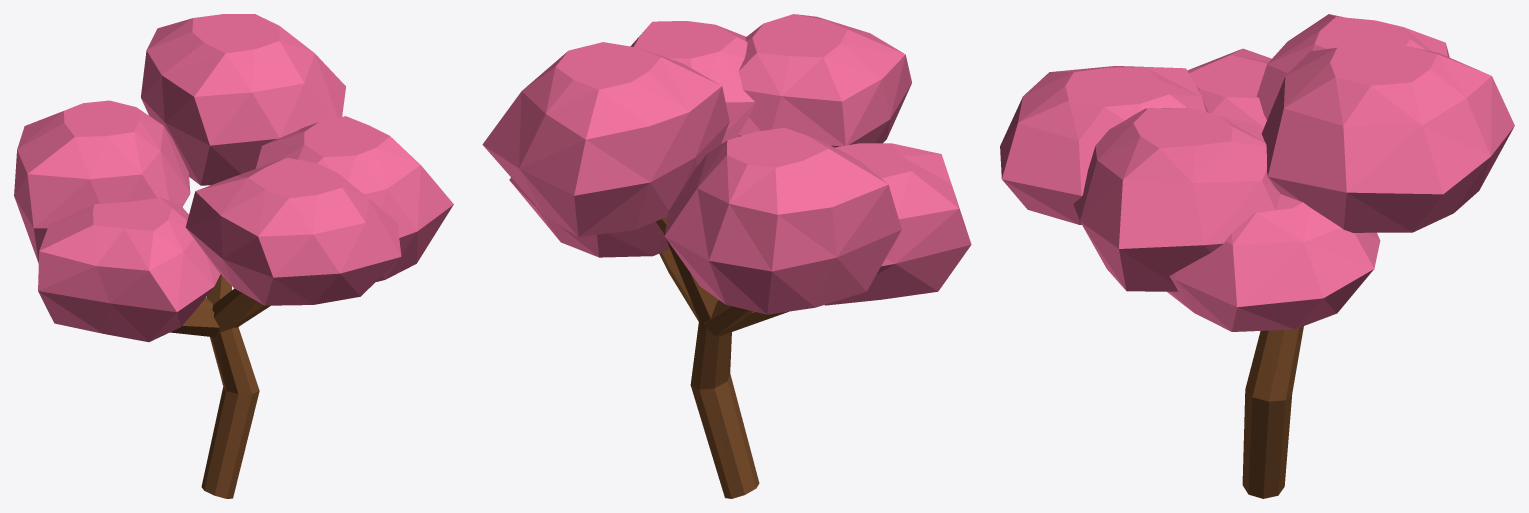
Rendered from cherry_blossom_tree.fbx.
3 renders of one model, left to right at view 1: azimuth 30°, elevation 25°; view 2: azimuth 150°, elevation 25°; view 3: azimuth 270°, elevation 25°, orthographic. The views are drawn at different scales.
Parts seen in each view (by area): view 1: cherry_blossom_tree; view 2: cherry_blossom_tree; view 3: cherry_blossom_tree.
Part boxes in pixels (x1=…): cherry_blossom_tree: x1=14, y1=14, x2=453, y2=498; cherry_blossom_tree: x1=482, y1=14, x2=971, y2=498; cherry_blossom_tree: x1=1000, y1=14, x2=1514, y2=498.
Bounding box in the file's own units: 9 × 9 × 9.
